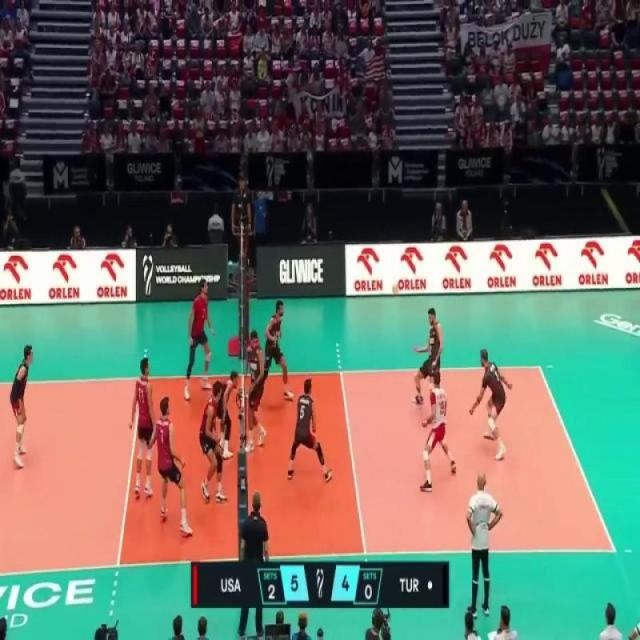volleyball: (390, 280, 400, 297)
